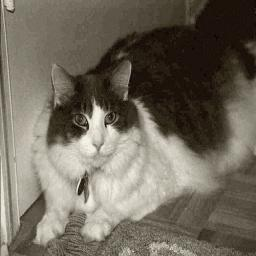catnose: (92, 138, 104, 153)
